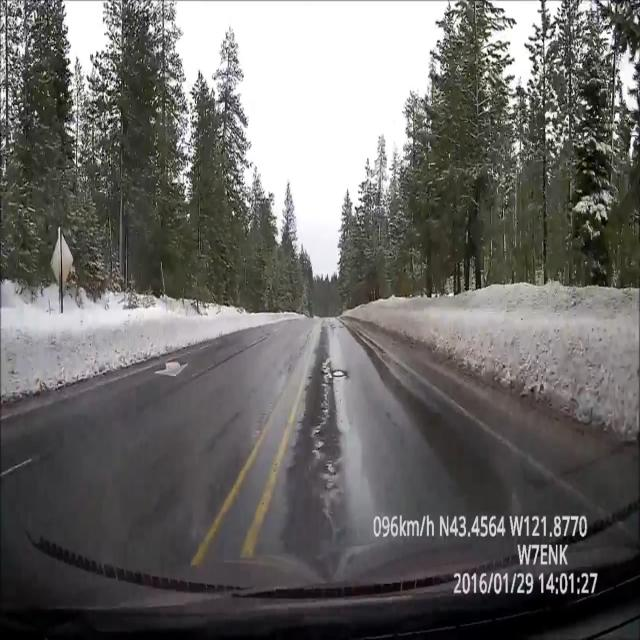Pothole: (322, 350, 354, 389)
